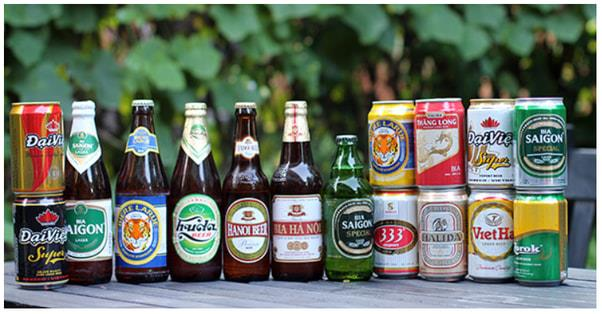333: (379, 227, 402, 244)
biadaiviet: (468, 130, 514, 149), (20, 227, 66, 245), (24, 132, 64, 148)
biahalida: (421, 233, 460, 241)
biahanoi: (273, 221, 322, 236), (226, 222, 269, 239)
biahuda: (176, 220, 216, 232)
biasaigon: (65, 224, 105, 236), (524, 133, 563, 145), (342, 219, 373, 230)
biavietha: (471, 224, 514, 241)
bierelarue: (118, 202, 157, 253), (369, 122, 405, 168)
zorok: (513, 242, 543, 256)
